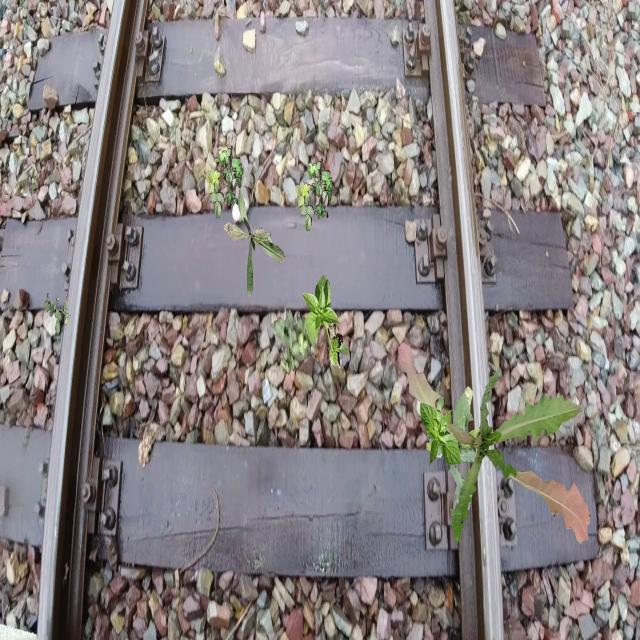Plant: (398, 342, 590, 544), (424, 386, 486, 511), (222, 185, 286, 297), (302, 275, 350, 370), (420, 397, 462, 468), (273, 309, 316, 376), (296, 158, 334, 232), (206, 145, 244, 218), (44, 294, 72, 335)
